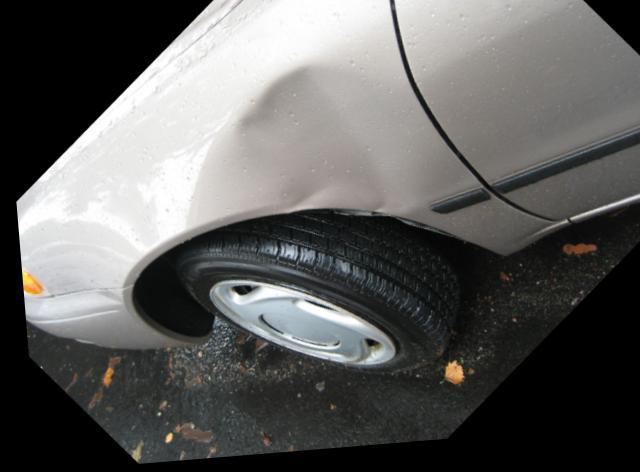dent: (228, 72, 422, 220)
